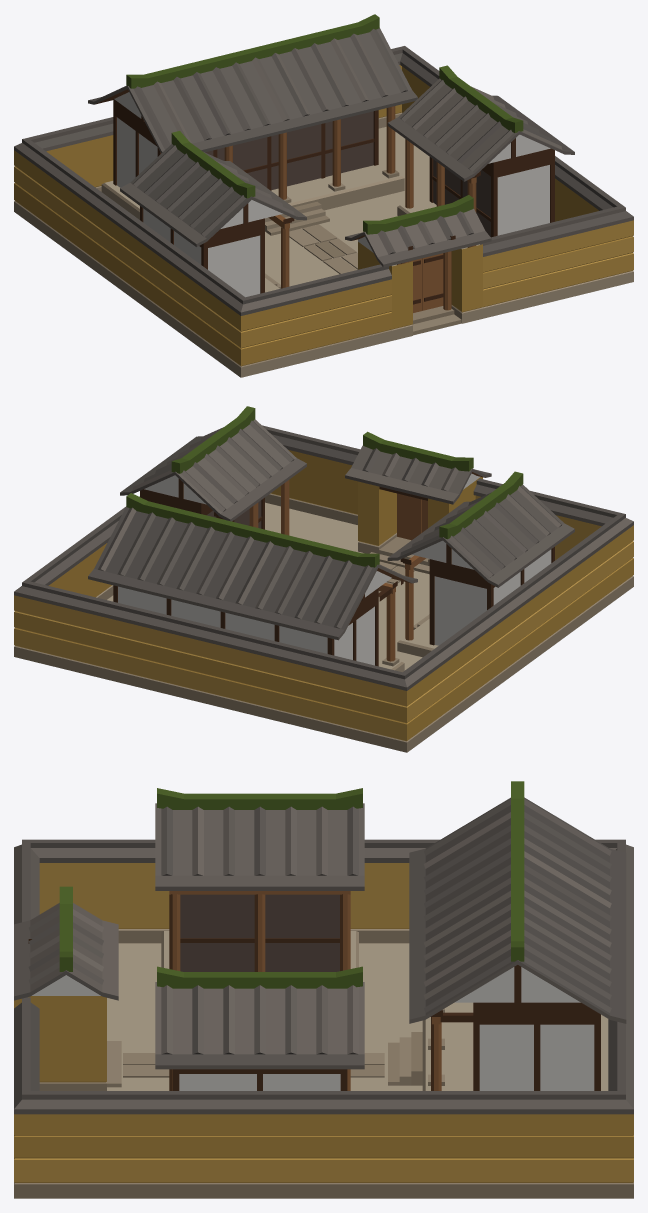
Rendered from courtyard-residence-342ac2.glb.
The picture shows the model from 3 angles, top to bottom: view 1: azimuth 30°, elevation 25°; view 2: azimuth 150°, elevation 25°; view 3: azimuth 270°, elevation 25°; orthographic projection. The views are drawn at different scales.
Parts seen in each view (by area): view 1: courtyard-residence-body, gate-door-r-leaf, gate-door-l-leaf; view 2: courtyard-residence-body, gate-door-r-leaf; view 3: courtyard-residence-body.
Part boxes in pixels (<box>): courtyard-residence-body: <box>14,14,633,377</box>; gate-door-r-leaf: <box>422,253,443,310</box>; gate-door-l-leaf: <box>397,258,422,312</box>; courtyard-residence-body: <box>14,406,633,752</box>; gate-door-r-leaf: <box>397,493,421,540</box>; courtyard-residence-body: <box>14,781,633,1198</box>.
Size of the model in its own units: 16 by 5.79 by 16.
